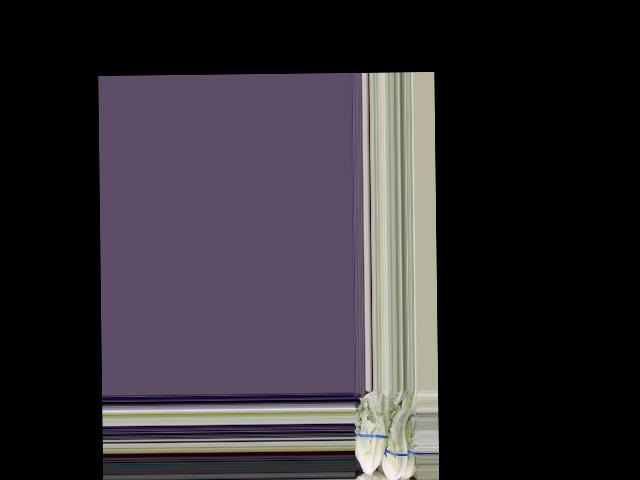lettuce: (381, 406, 414, 480)
